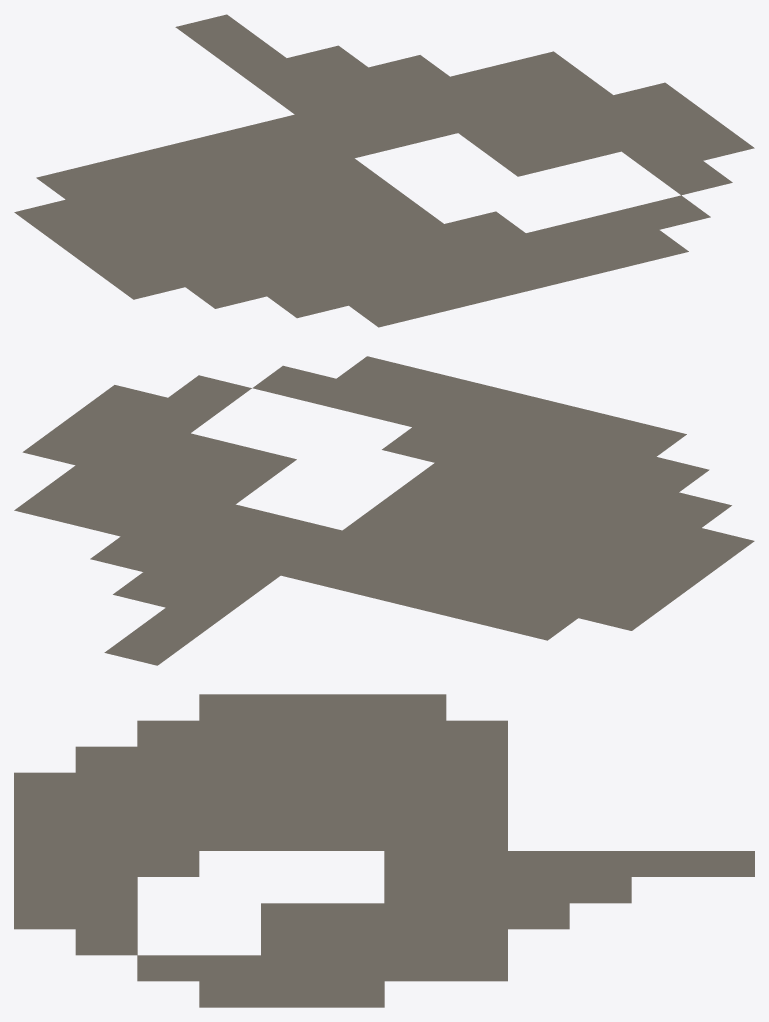
File: Isl-islet6-RocksArea.fbx
3 renders of one model, top to bottom at view 1: azimuth 30°, elevation 25°; view 2: azimuth 150°, elevation 25°; view 3: azimuth 270°, elevation 25°, orthographic. The views are drawn at different scales.
Parts seen in each view (by area): view 1: Isl-islet6-RocksArea; view 2: Isl-islet6-RocksArea; view 3: Isl-islet6-RocksArea.
Part boxes in pixels (x1,y1,x2,y2): Isl-islet6-RocksArea: [14, 14, 754, 327]; Isl-islet6-RocksArea: [14, 356, 754, 665]; Isl-islet6-RocksArea: [14, 694, 754, 1007].
Bounding box in the file's own units: 12 × 0 × 12.
